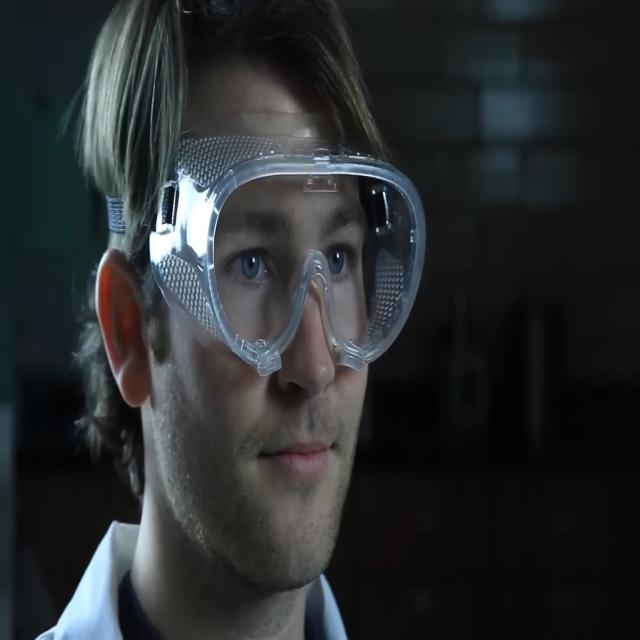googles: (133, 114, 439, 372)
labcoat: (29, 509, 354, 640)
